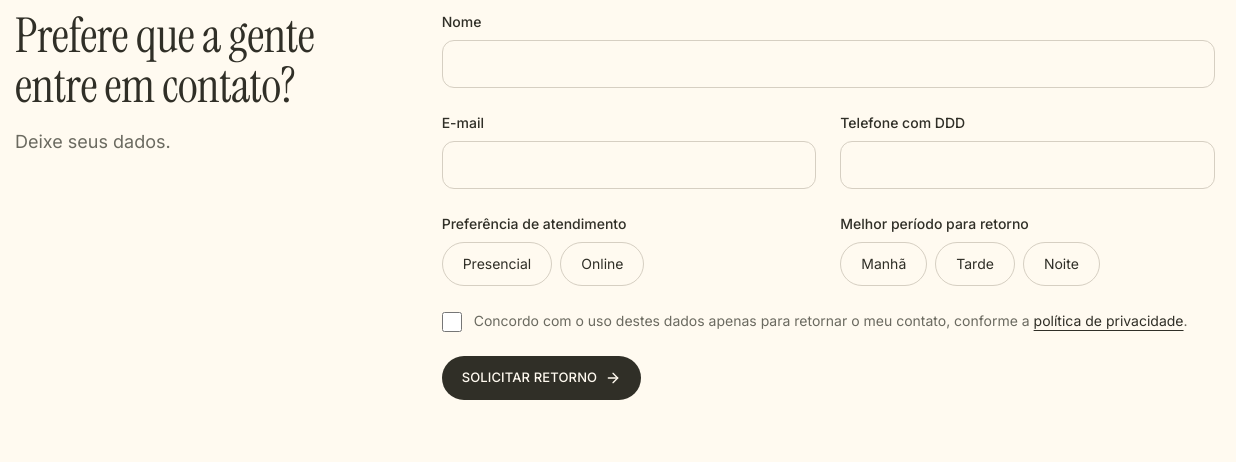
Test: ContactSection › offers WhatsApp when sending fails
Type "Ana Souza" into the field labelled "Nome" at (828, 64), box [442, 40, 1215, 88]
Type "ana@exemplo.com" into the field labelled "E-mail" at (629, 165), box [442, 141, 816, 189]
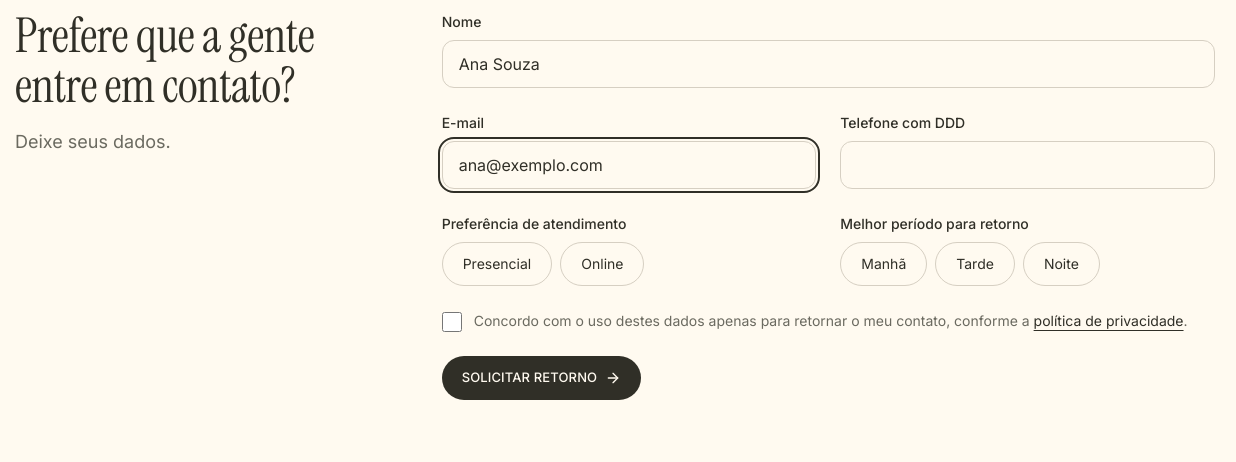
Type "11912345678" into the field labelled "Telefone com DDD" at (1028, 165), box [840, 141, 1215, 189]
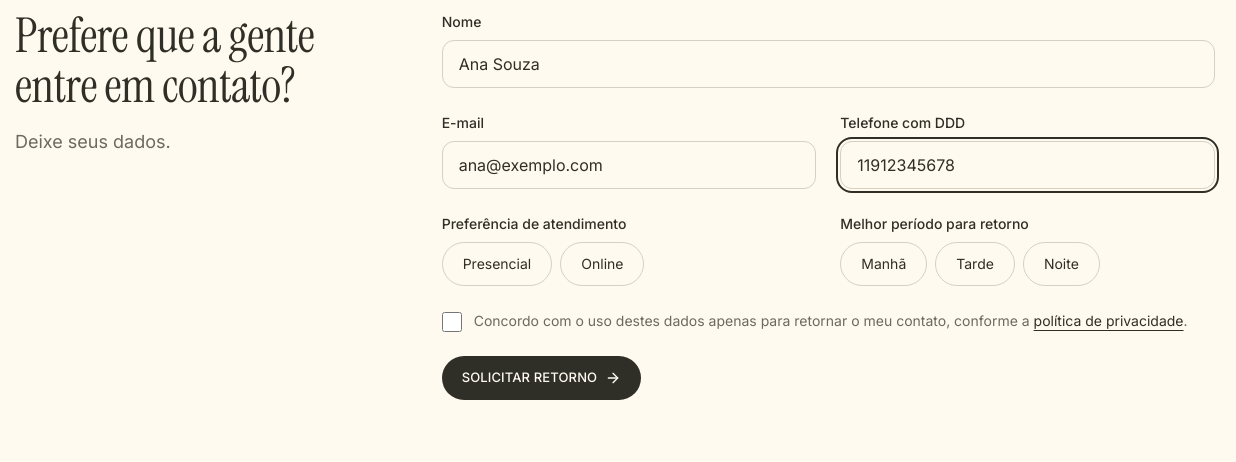
Click the radio button labelled "Online" at (602, 264), box [560, 242, 644, 286]
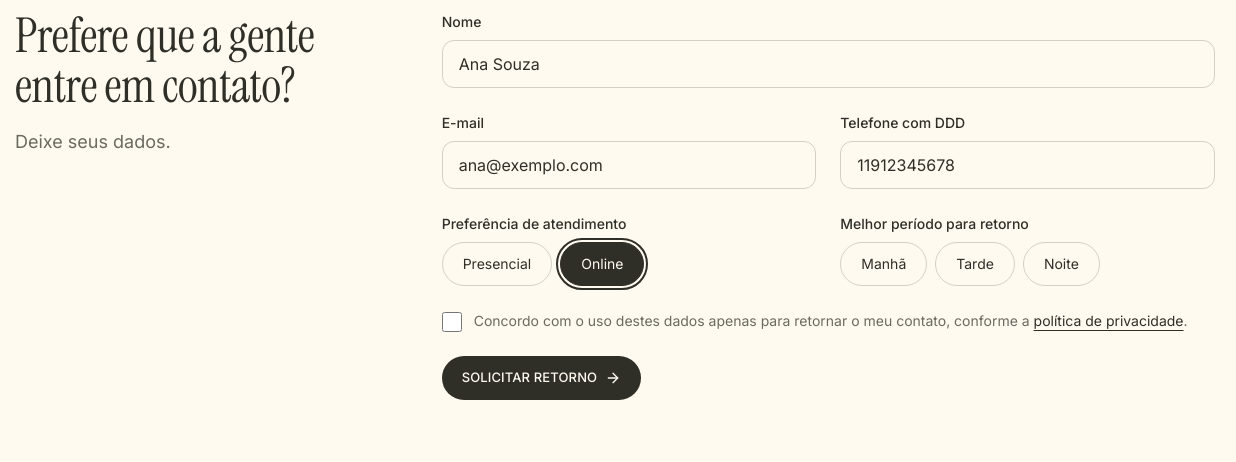
Click the radio button labelled "Tarde" at (975, 264), box [935, 242, 1015, 286]
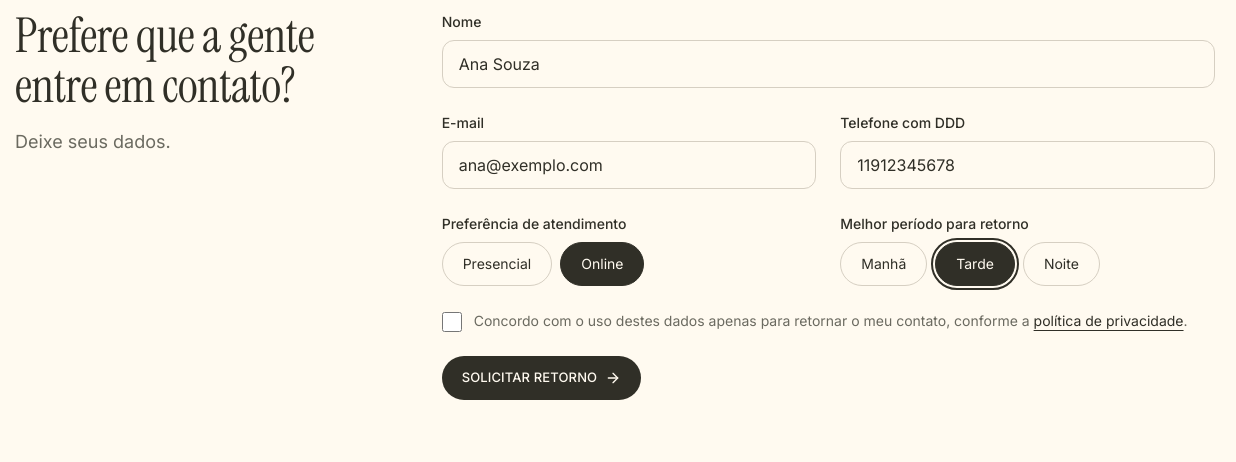
Click the checkbox at (452, 322), box [442, 312, 462, 332]
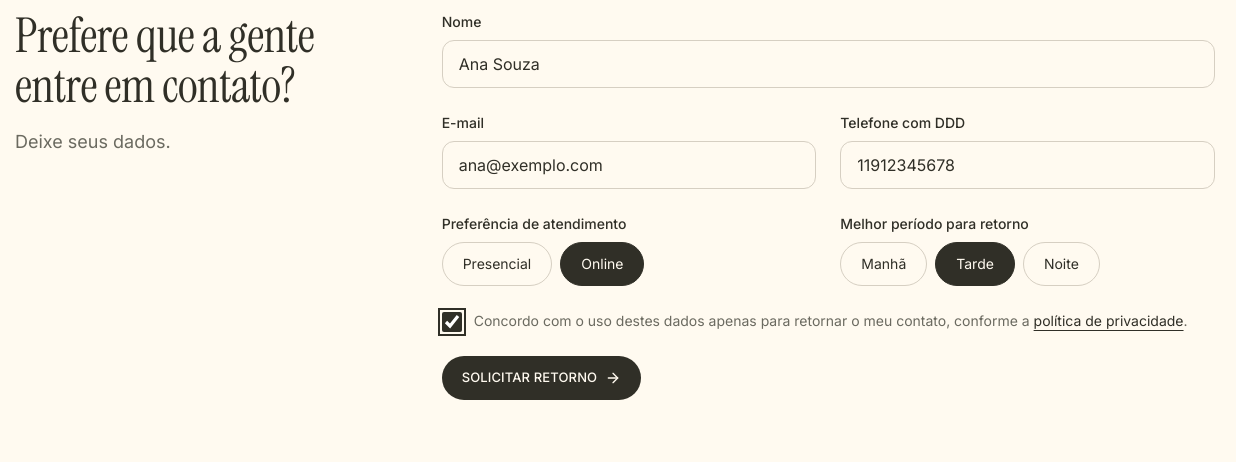
Click the button "Solicitar retorno" at (542, 378), box [442, 356, 641, 400]
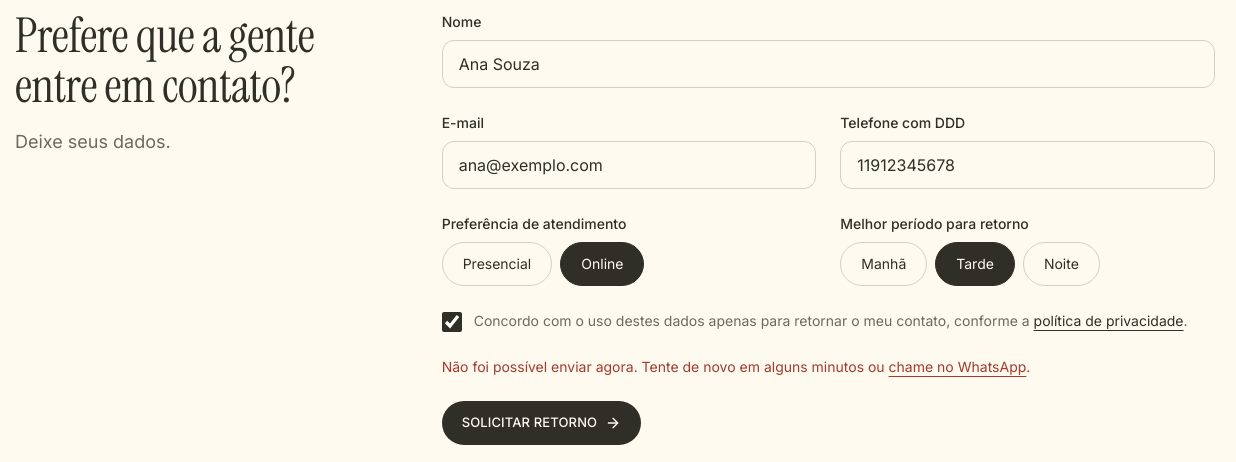
Expected: the message shows "Não foi possível enviar agora", [442, 358, 885, 375]
